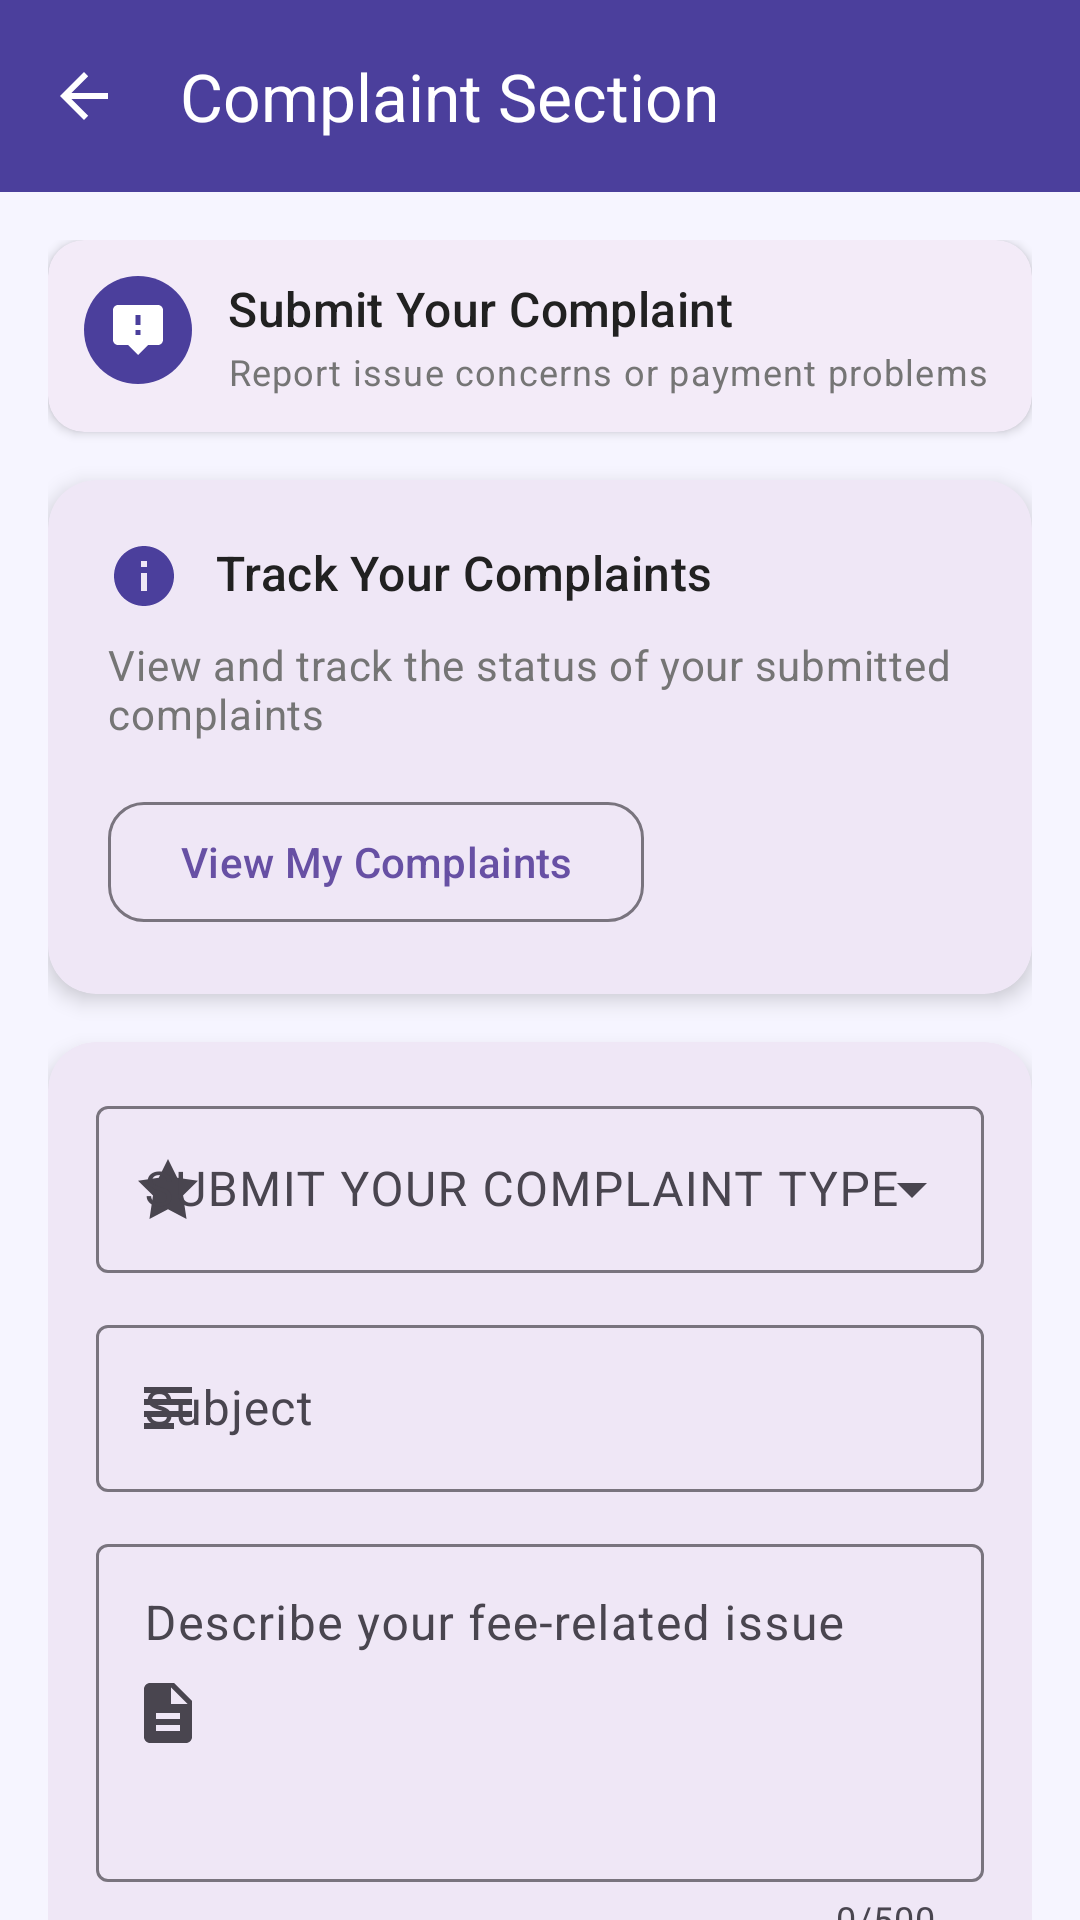

Icon click points for this 1080×1920 phone screenshot, format [x,y]:
feedback: [138,330]
info: [144,576]
